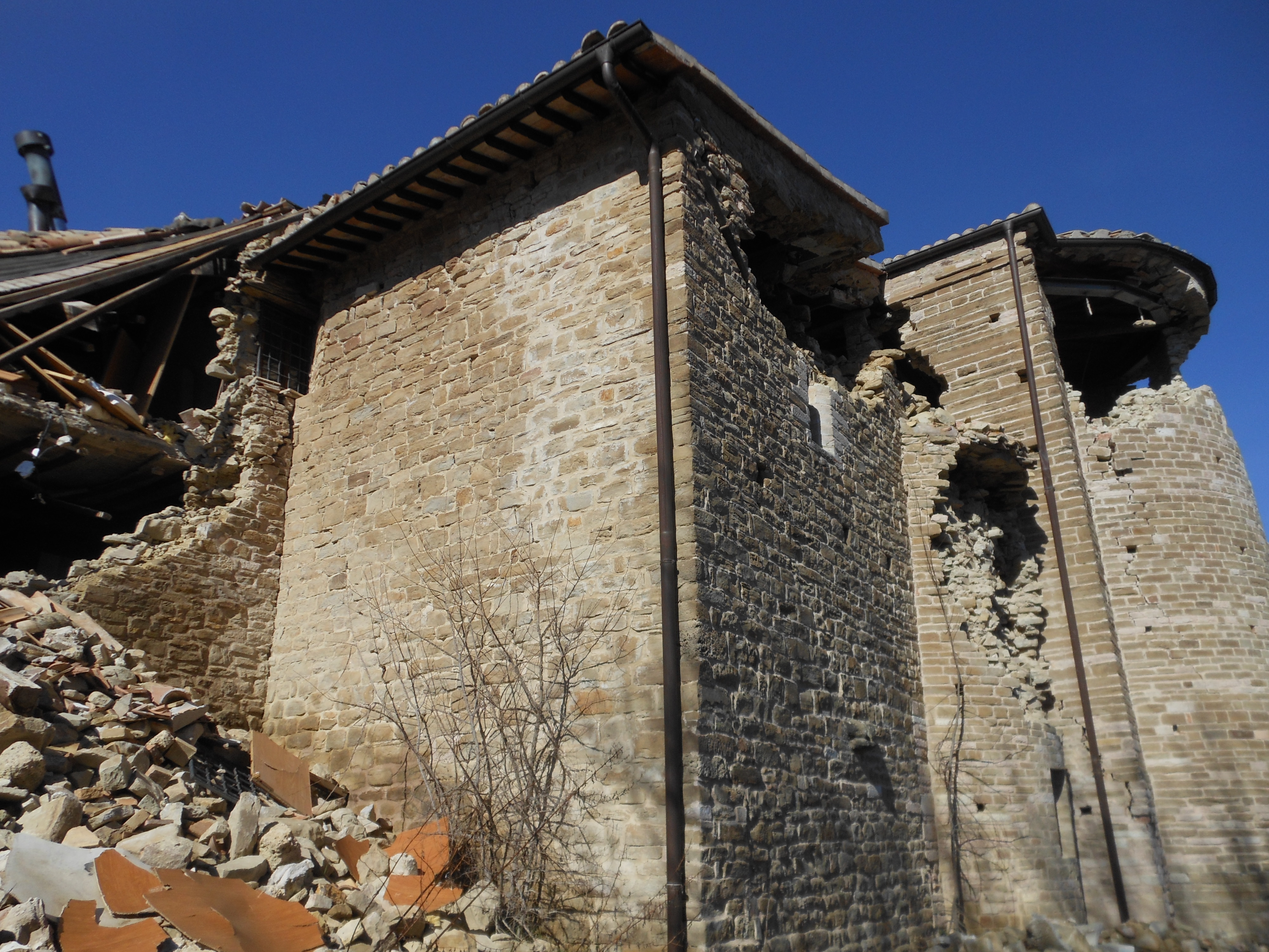Crack: (1084, 422, 1171, 649), (1061, 702, 1146, 823)
Debris: (0, 556, 537, 949), (897, 910, 1241, 950)
Other damage/mechanism: (1, 222, 282, 585), (690, 144, 890, 397), (1024, 229, 1219, 432), (926, 440, 1059, 721), (887, 301, 950, 420)
